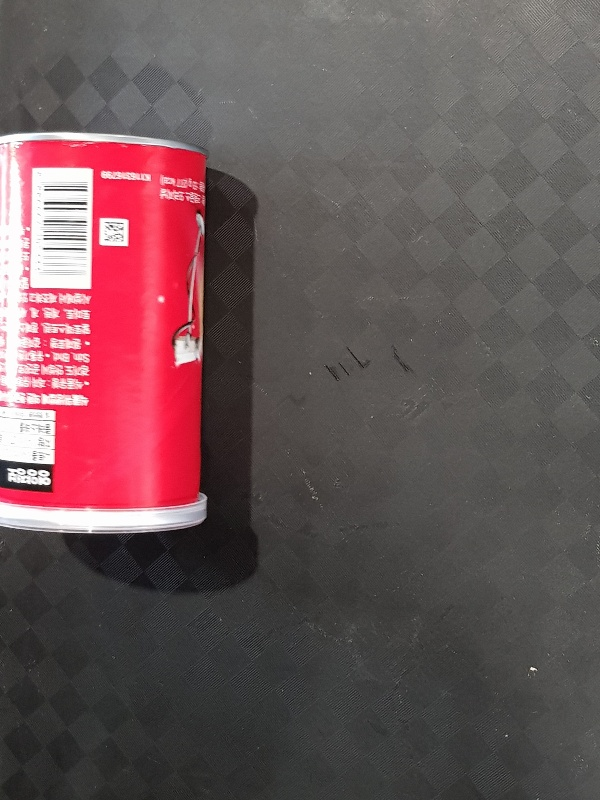Pringles Original: (1, 129, 208, 537)
